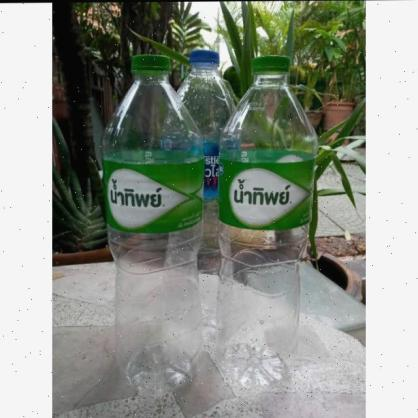bottle: (102, 51, 204, 394), (218, 55, 318, 392)
cap: (129, 53, 173, 78), (250, 57, 294, 80)
label: (104, 152, 202, 235), (221, 160, 312, 231)
